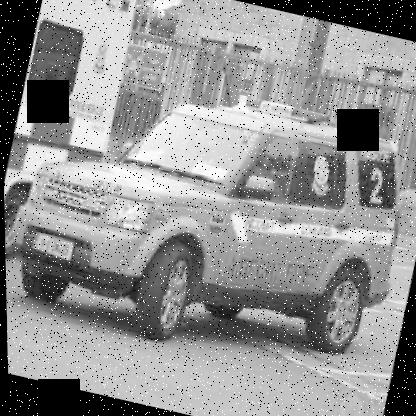emergency: (0, 27, 415, 390), (0, 0, 160, 289)
